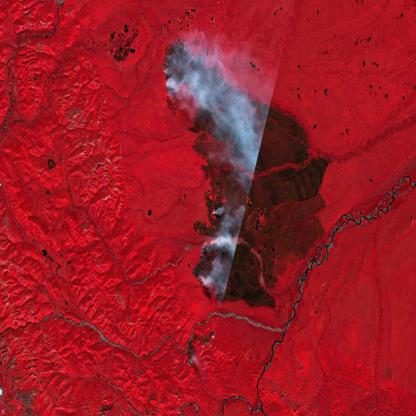fire: (162, 35, 192, 98), (190, 239, 224, 288), (206, 330, 219, 346)
